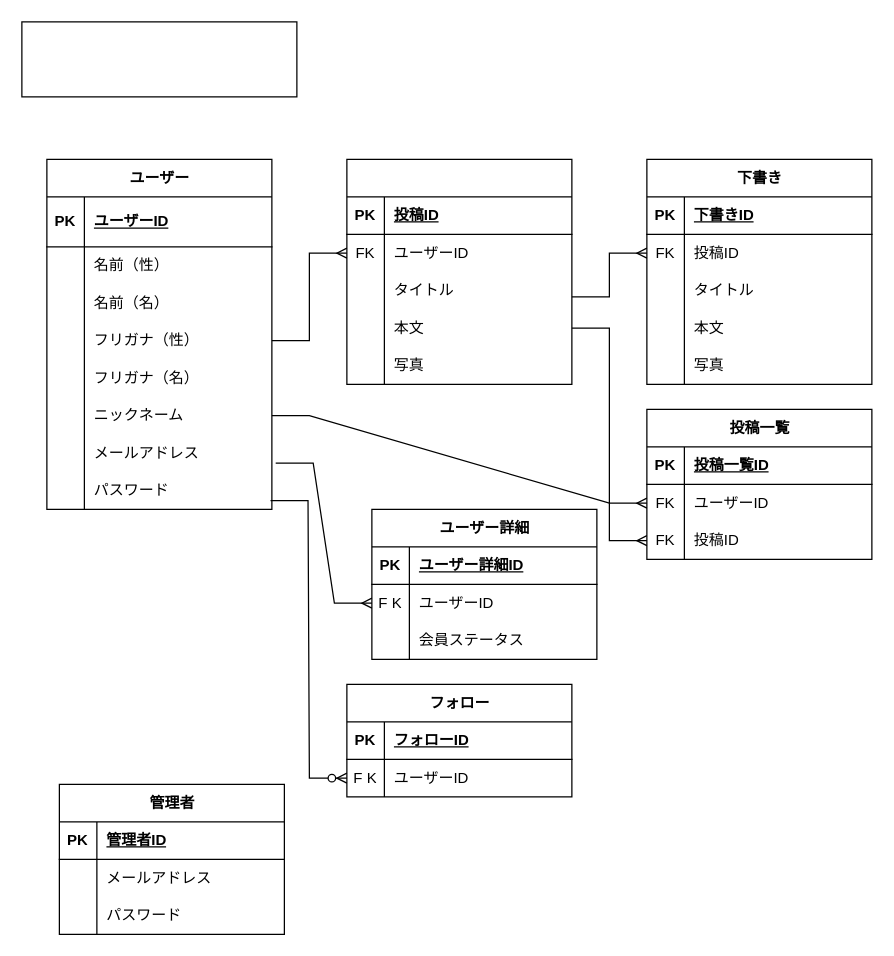
This 894x956 diagram has some shape labels left out. The box of each missing label's shape, as (x1, y1, x2, y2) in pixels:
ER図: (21, 21, 297, 97)
投稿: (346, 158, 572, 384)
